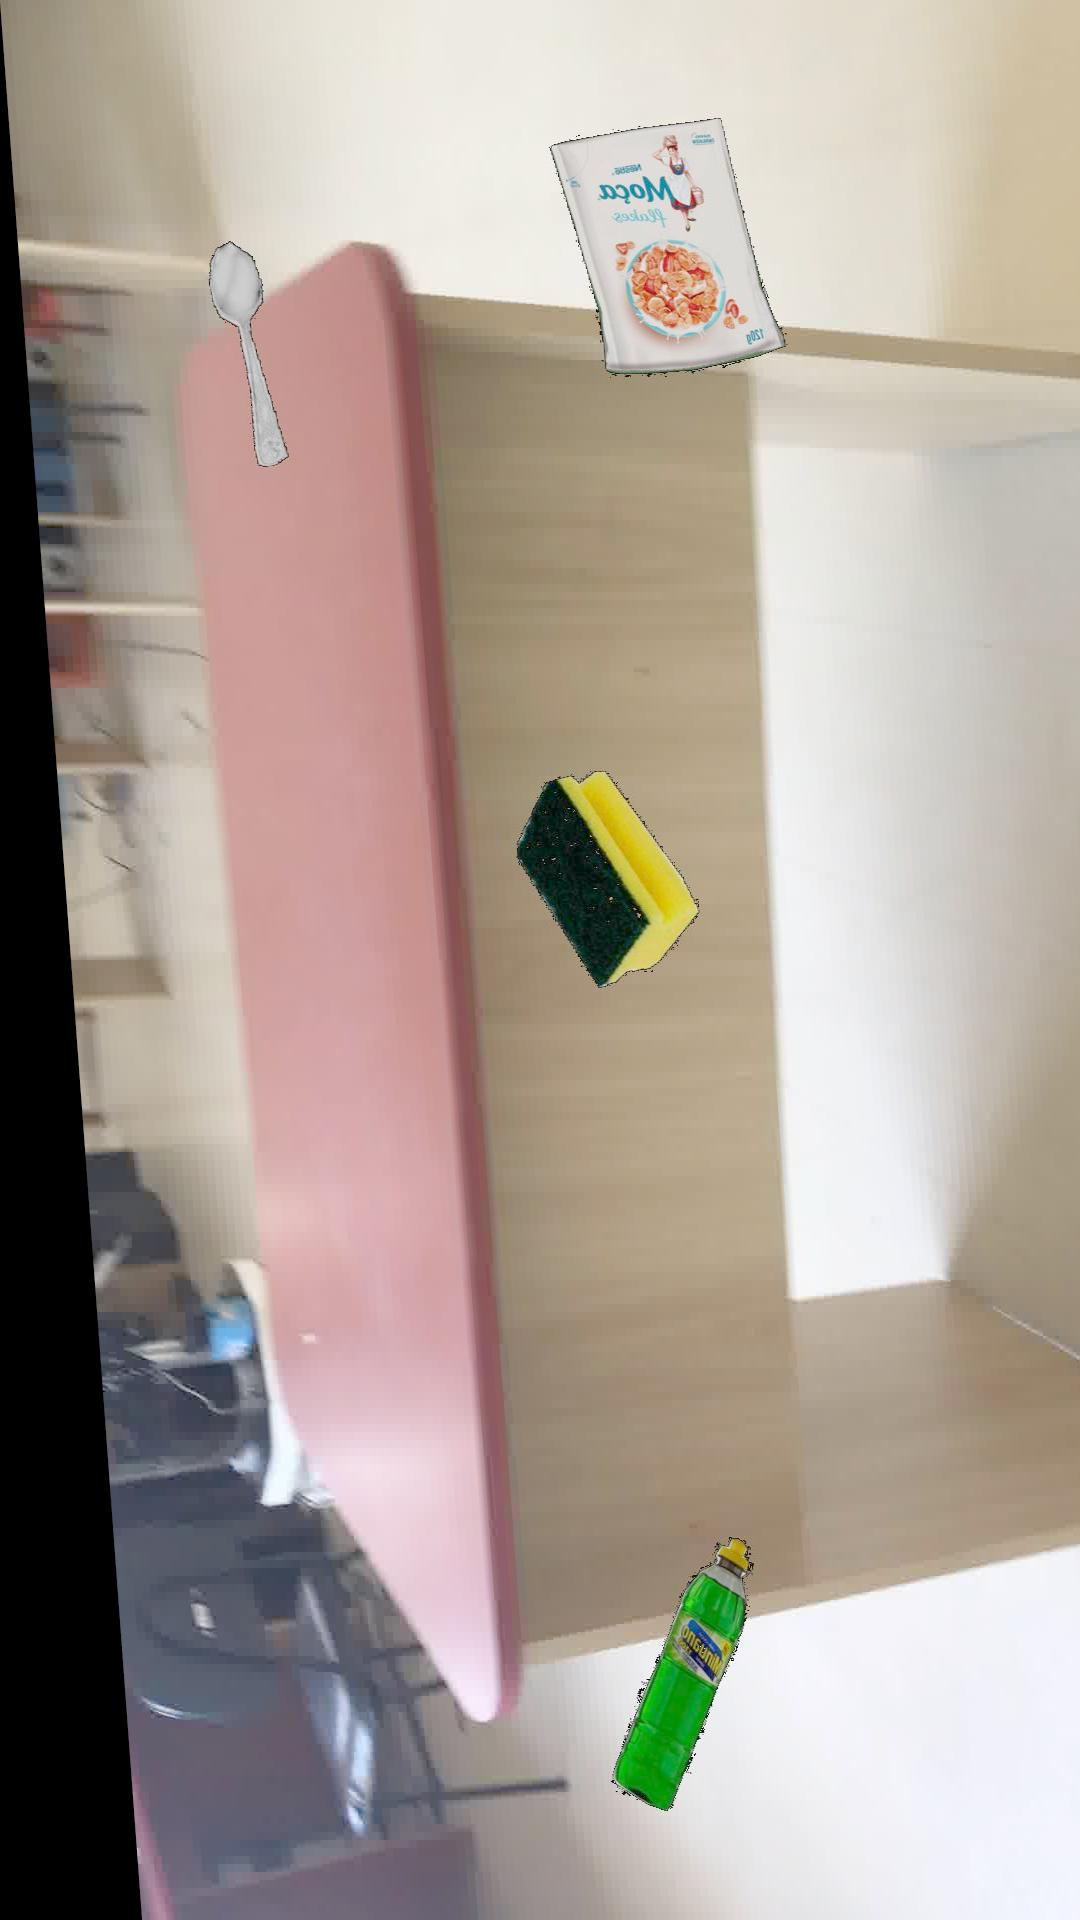cleaner: (584, 1539, 731, 1812)
corn flakes: (550, 120, 782, 378)
sponge: (505, 773, 687, 989)
spoon: (206, 243, 284, 468)
